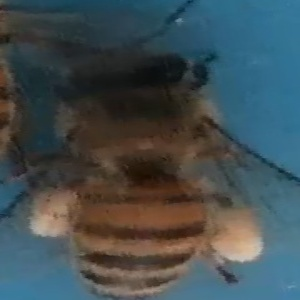bee: (33, 41, 285, 300)
